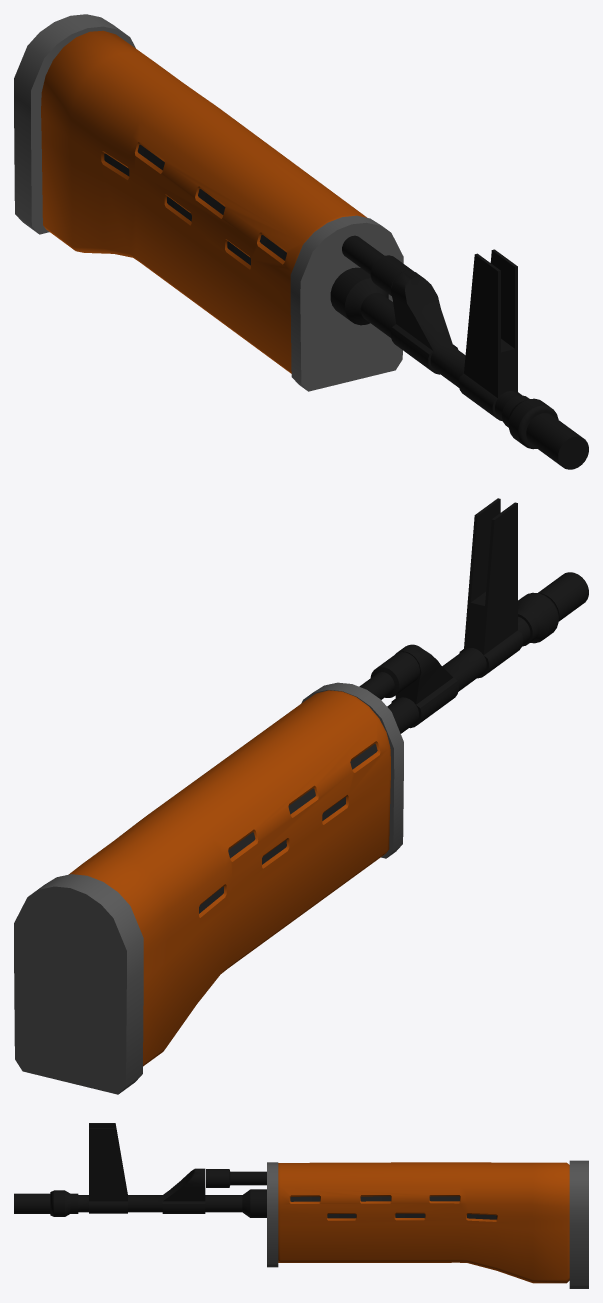
The model's file is barrel_4.fbx.
The picture shows the model from 3 angles, top to bottom: view 1: azimuth 30°, elevation 25°; view 2: azimuth 150°, elevation 25°; view 3: azimuth 270°, elevation 25°; orthographic projection. The views are drawn at different scales.
Parts seen in each view (by area): view 1: barrel_4; view 2: barrel_4; view 3: barrel_4.
Part boxes in pixels (x1,y1,x2,y2): barrel_4: [14, 14, 588, 469]; barrel_4: [14, 498, 588, 1094]; barrel_4: [14, 1123, 588, 1288].
Size of the model in its own units: 218 by 483 by 1683.
